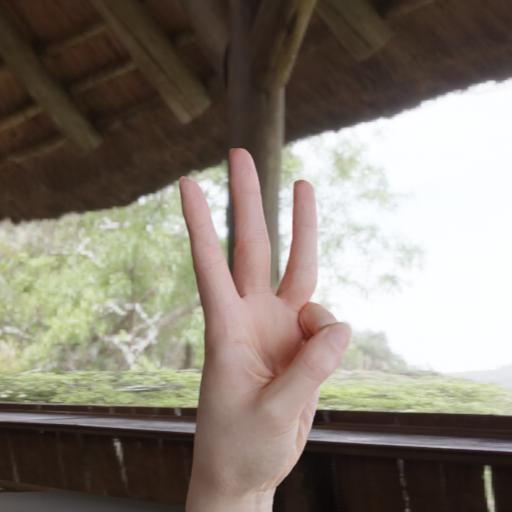W: (131, 104, 382, 512)
